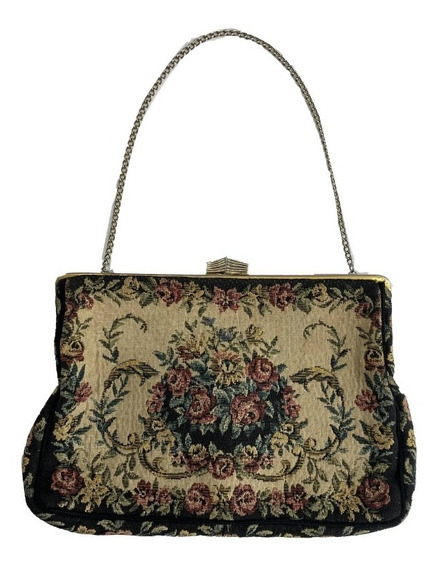cartera: (20, 28, 416, 537)
tela: (20, 278, 416, 537)
